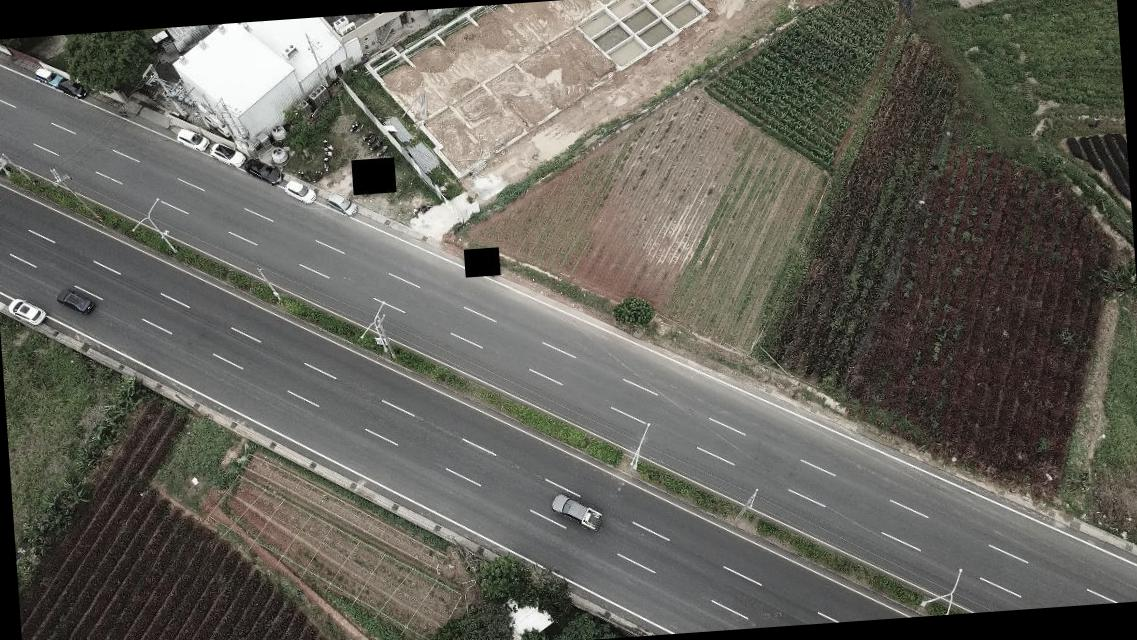vehicle: (550, 491, 605, 536), (5, 296, 46, 330), (57, 284, 94, 316), (174, 123, 210, 154), (245, 156, 282, 186), (210, 138, 244, 170), (280, 178, 318, 206), (325, 190, 358, 217), (58, 74, 88, 99), (34, 66, 62, 88)
